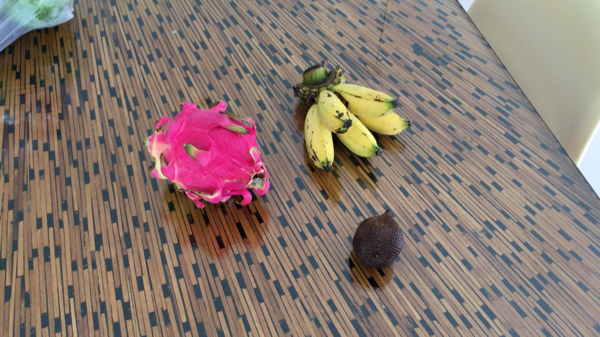banana: (297, 62, 410, 172)
dragon fruit: (142, 99, 271, 211)
snake fruit: (349, 207, 409, 273)
